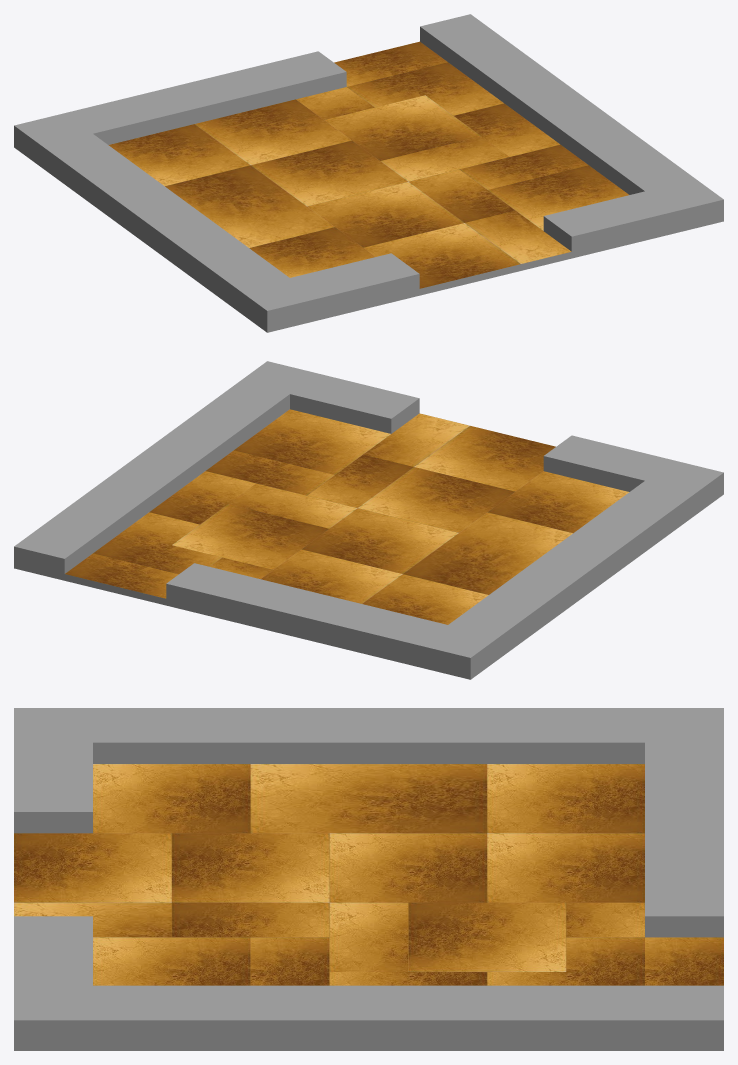
Rendered from Ground.fbx.
The picture shows the model from 3 angles, top to bottom: view 1: azimuth 30°, elevation 25°; view 2: azimuth 150°, elevation 25°; view 3: azimuth 270°, elevation 25°; orthographic projection. The views are drawn at different scales.
Parts seen in each view (by area): view 1: pCube1; view 2: pCube1; view 3: pCube1.
Part boxes in pixels (x1,y1,x2,y2): pCube1: (14, 14, 723, 332); pCube1: (14, 361, 723, 679); pCube1: (14, 708, 723, 1050).
Bounding box in the file's own units: 63.72 × 2.92 × 61.23.
